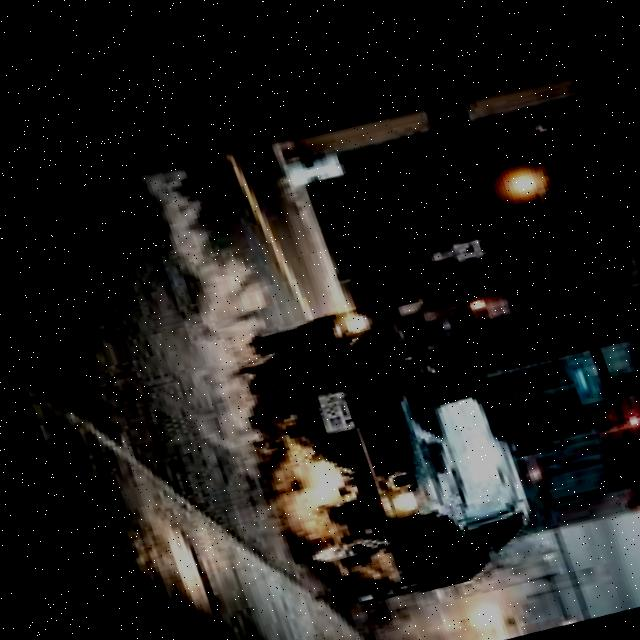Smoke: (114, 140, 356, 552)
